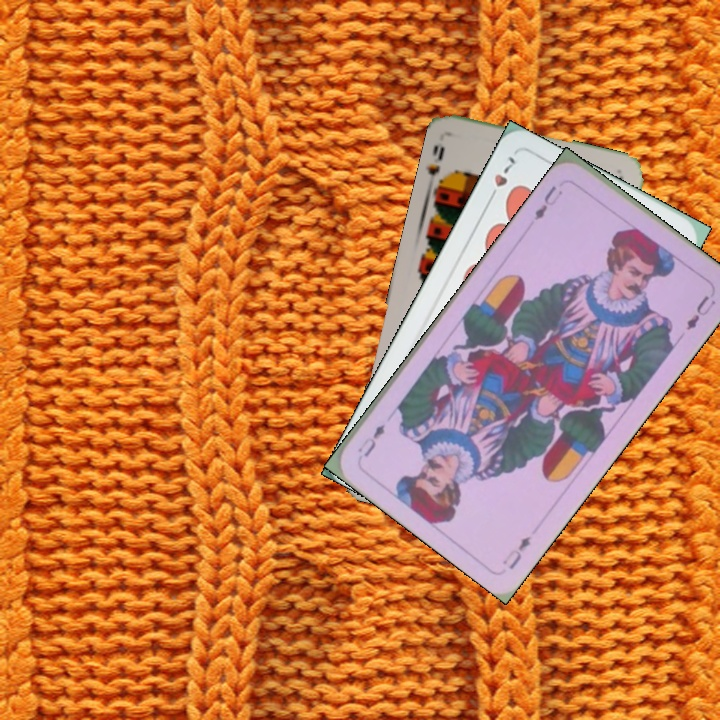EU: (529, 181, 566, 223), (498, 531, 534, 573)
H7: (483, 152, 518, 205)
S9: (424, 140, 451, 194)
